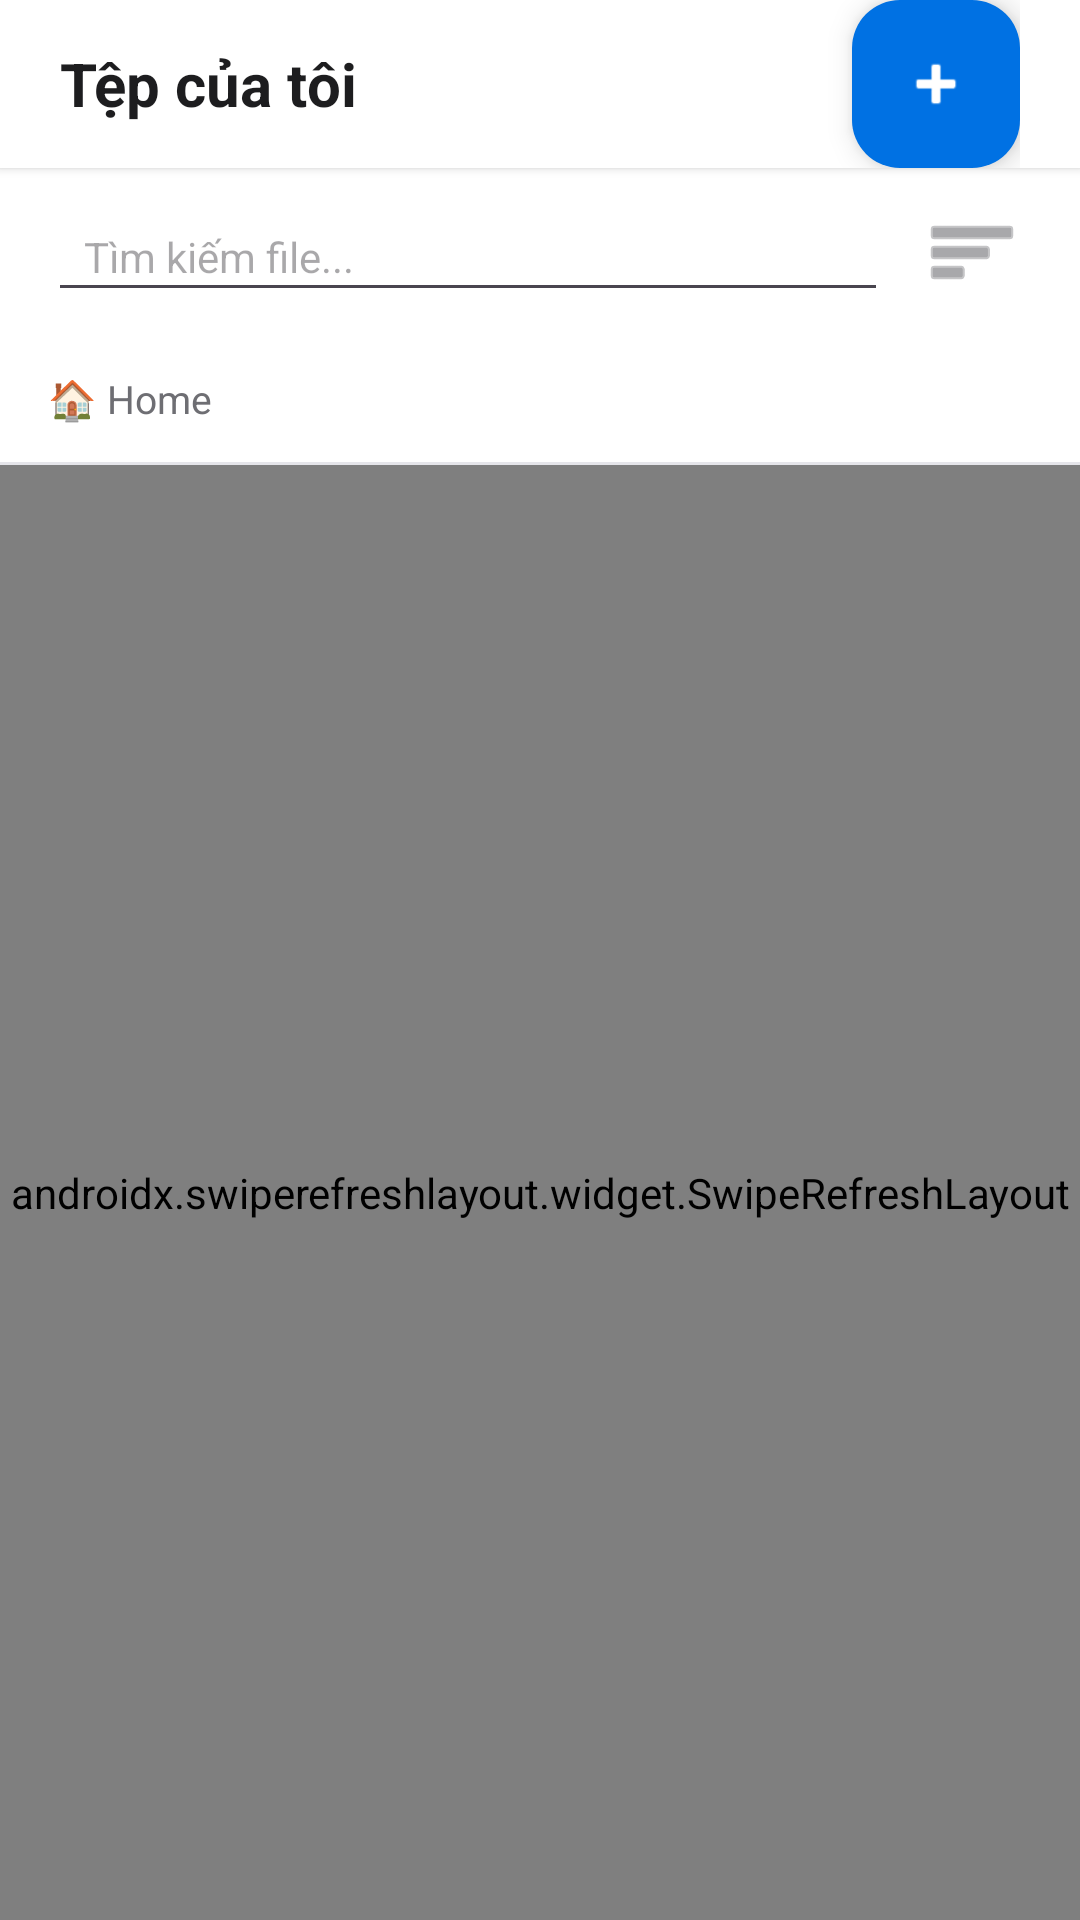

Icons on this 1080w x 1920h Android screen, each with the point to tap as (x,y):
Sắp xếp: (972,252)
Thêm file hoặc thư mục: (936,84)
